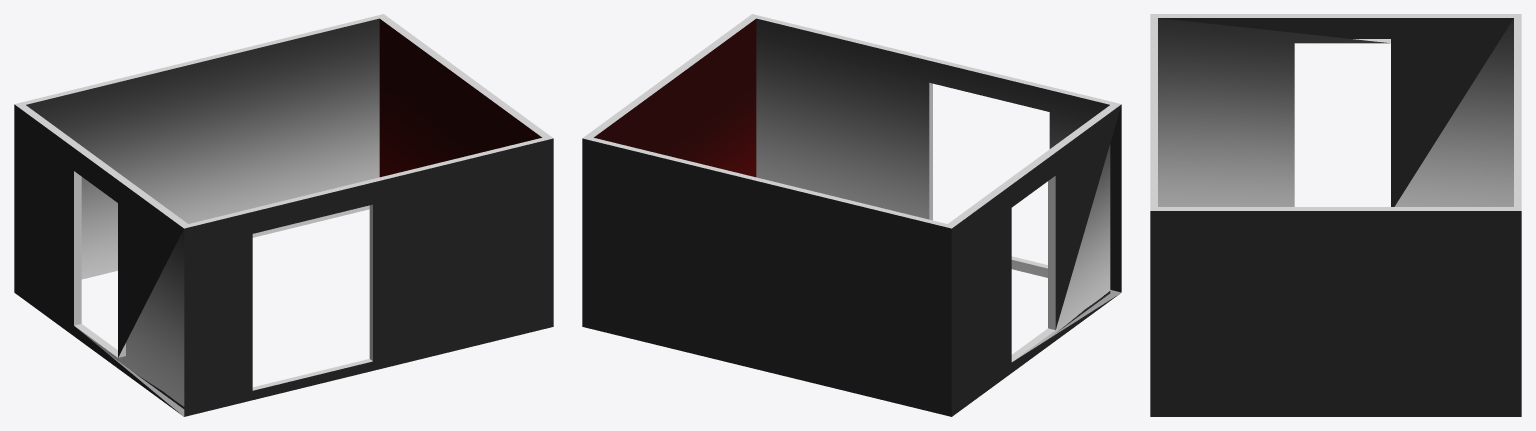
The model's file is rom1_teksturert.fbx.
3 renders of one model, left to right at view 1: azimuth 30°, elevation 25°; view 2: azimuth 150°, elevation 25°; view 3: azimuth 270°, elevation 25°, orthographic. The views are drawn at different scales.
Visible parts, largest first — view 1: pCube29; view 2: pCube29; view 3: pCube29.
Part boxes in pixels (<box>): pCube29: <box>14,14,553,416</box>; pCube29: <box>582,14,1121,416</box>; pCube29: <box>1150,14,1521,416</box>.
Bounding box in the file's own units: 28.89 × 14.07 × 23.01.
